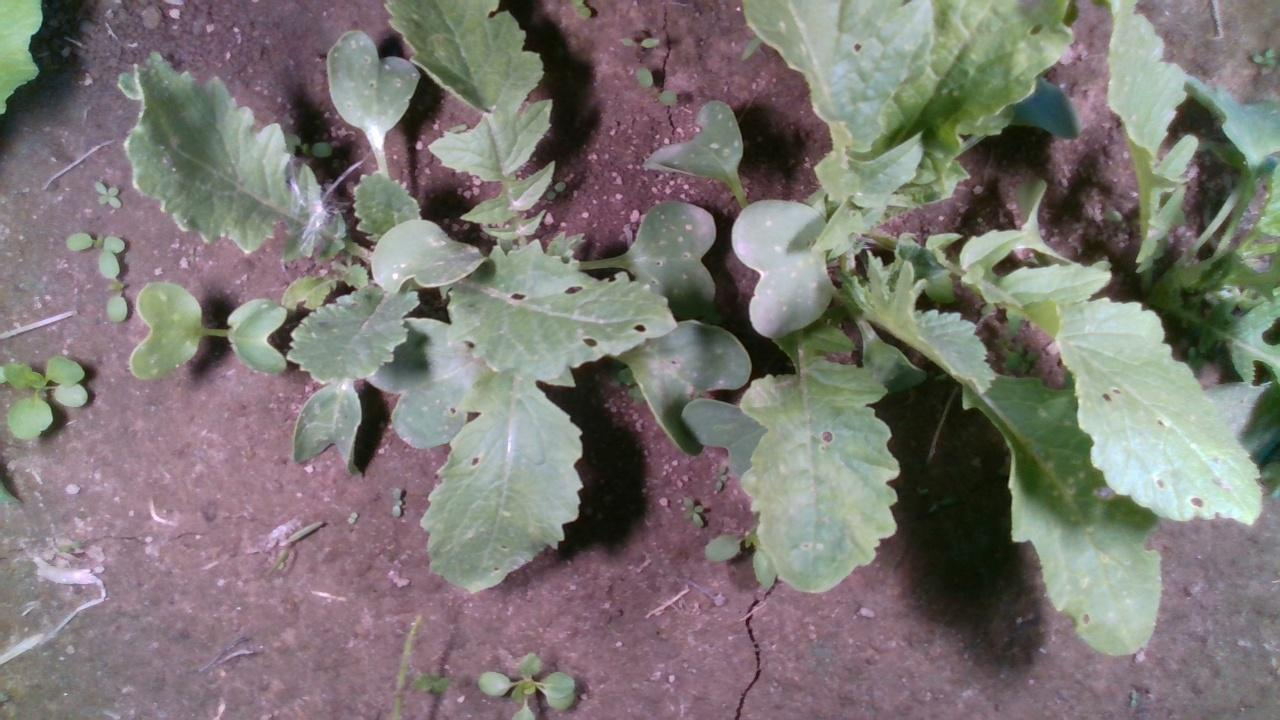weed: (634, 64, 678, 107), (90, 179, 122, 210), (680, 495, 706, 528), (615, 35, 660, 47), (389, 485, 401, 518), (346, 509, 358, 526)
